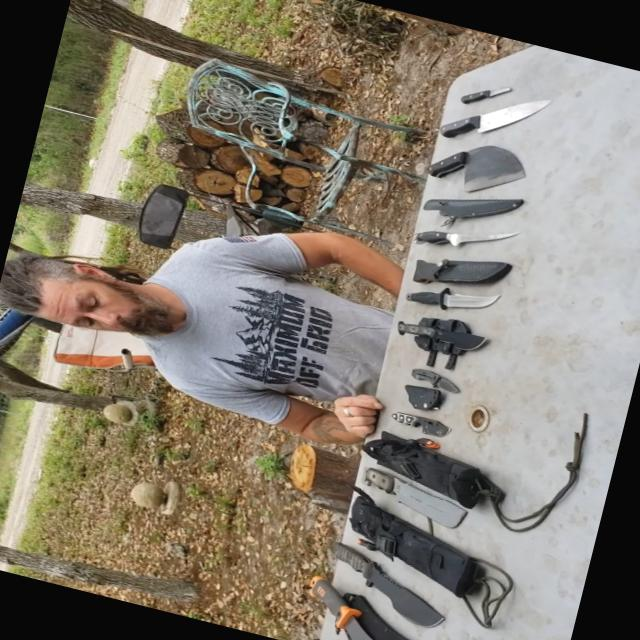knife: (312, 522, 464, 636), (294, 566, 475, 639), (337, 444, 483, 533), (428, 71, 552, 164), (414, 127, 535, 214), (396, 202, 515, 274), (380, 302, 502, 363), (396, 267, 498, 327), (364, 394, 469, 448), (396, 356, 482, 402), (454, 64, 521, 120)
